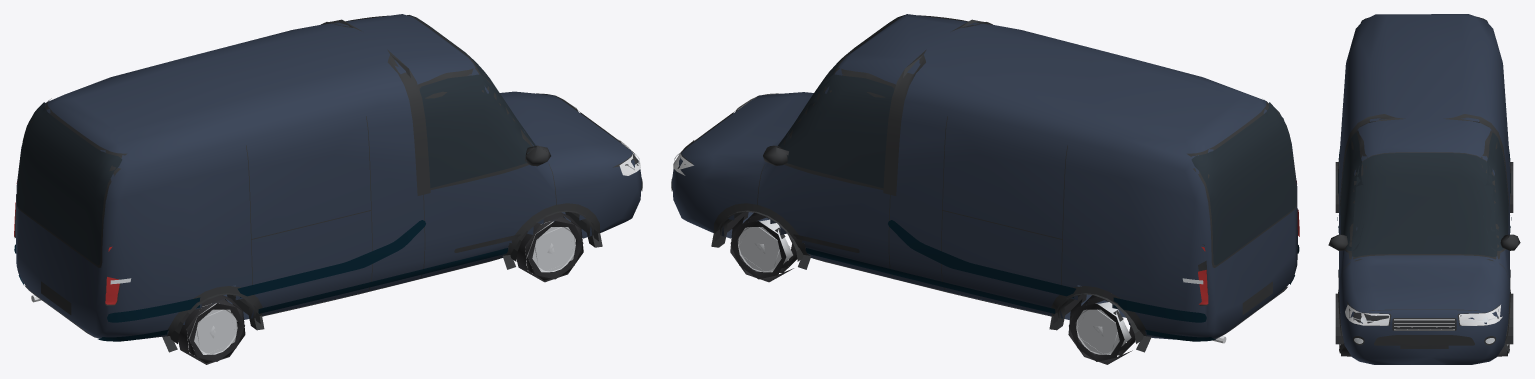
File: livr_bleu_far.glb
3 views of the same model, side by side, from view 1: azimuth 30°, elevation 25°; view 2: azimuth 150°, elevation 25°; view 3: azimuth 270°, elevation 25° (orthographic). The views are drawn at different scales.
Parts seen in each view (by area): view 1: Body, RearGlass, Glass-1, WheelRR, WheelFR, LbWave-1, Bpillar-1, LbSky-1, ArchTrim-1, ArchTrim-1.001, RgFrame, WinFrame-1 (+2 smaller); view 2: Body, RearGlass, Glass1, WheelRL, WheelFL, LbWave1, Bpillar1, LbSky1, ArchTrim1, ArchTrim1.001, RgFrame, WinFrame1 (+2 smaller); view 3: Body, Windshield, Glass1, Glass-1, Intake, HeadReflector, Grille, WsFrame, HeadBezel, Bpillar-1, Bpillar1, ArchLiner (+8 smaller).
Part boxes in pixels (x1=…): Body: x1=16, y1=14, x2=641, y2=339; RearGlass: x1=17, y1=102, x2=122, y2=265; Glass-1: x1=419, y1=74, x2=535, y2=188; WheelRR: x1=178, y1=295, x2=245, y2=364; WheelFR: x1=516, y1=212, x2=583, y2=282; LbWave-1: x1=107, y1=220, x2=425, y2=322; Bpillar-1: x1=387, y1=49, x2=430, y2=195; LbSky-1: x1=98, y1=248, x2=507, y2=341; ArchTrim-1: x1=502, y1=203, x2=602, y2=269; ArchTrim-1.001: x1=162, y1=286, x2=264, y2=352; RgFrame: x1=16, y1=98, x2=127, y2=267; WinFrame-1: x1=418, y1=68, x2=532, y2=189; Body: x1=672, y1=14, x2=1297, y2=339; RearGlass: x1=1191, y1=102, x2=1296, y2=265; Glass1: x1=778, y1=74, x2=894, y2=187; WheelRL: x1=1068, y1=295, x2=1135, y2=364; WheelFL: x1=730, y1=212, x2=797, y2=282; LbWave1: x1=888, y1=220, x2=1206, y2=322; Bpillar1: x1=883, y1=49, x2=926, y2=195; LbSky1: x1=805, y1=248, x2=1215, y2=341; ArchTrim1: x1=711, y1=203, x2=811, y2=269; ArchTrim1.001: x1=1049, y1=286, x2=1151, y2=352; RgFrame: x1=1187, y1=101, x2=1296, y2=267; WinFrame1: x1=784, y1=68, x2=895, y2=189; Body: x1=1338, y1=14, x2=1510, y2=364; Windshield: x1=1351, y1=153, x2=1497, y2=257; Glass1: x1=1476, y1=132, x2=1508, y2=250; Glass-1: x1=1340, y1=132, x2=1363, y2=250; Intake: x1=1374, y1=335, x2=1474, y2=345; HeadReflector: x1=1345, y1=305, x2=1502, y2=325; Grille: x1=1392, y1=318, x2=1456, y2=330; WsFrame: x1=1348, y1=152, x2=1500, y2=259; HeadBezel: x1=1346, y1=301, x2=1499, y2=325; Bpillar-1: x1=1339, y1=114, x2=1405, y2=209; Bpillar1: x1=1443, y1=114, x2=1509, y2=209; ArchLiner: x1=1505, y1=293, x2=1513, y2=344.
Bounding box in the file's own units: 5.62 × 2.29 × 2.15.
